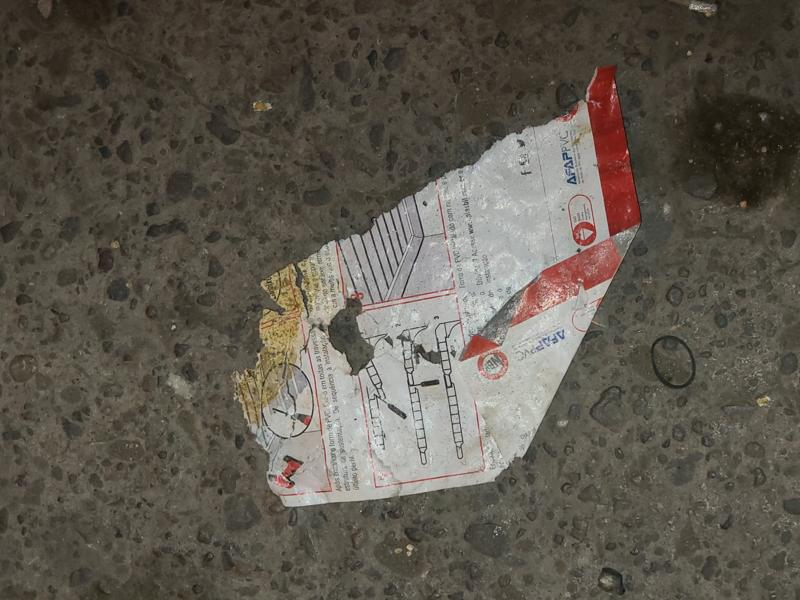papel: (236, 67, 644, 511)
